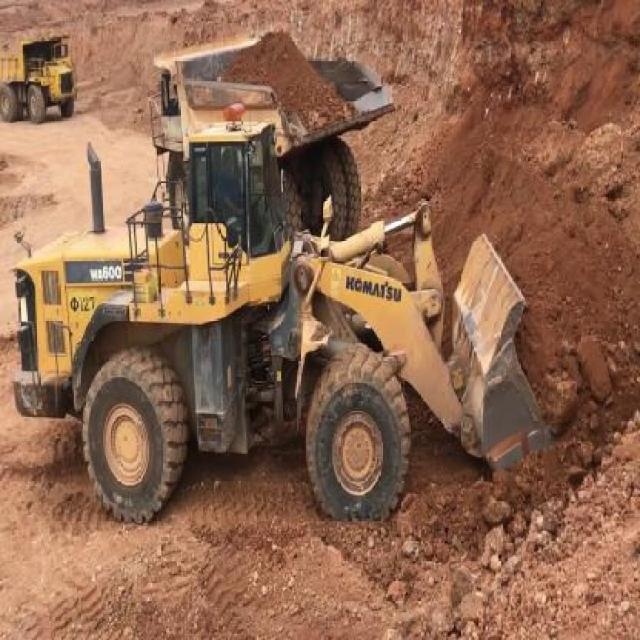buldozerpayloadergrader: (11, 114, 554, 520)
dump_truck: (132, 29, 398, 153), (1, 32, 77, 116)
